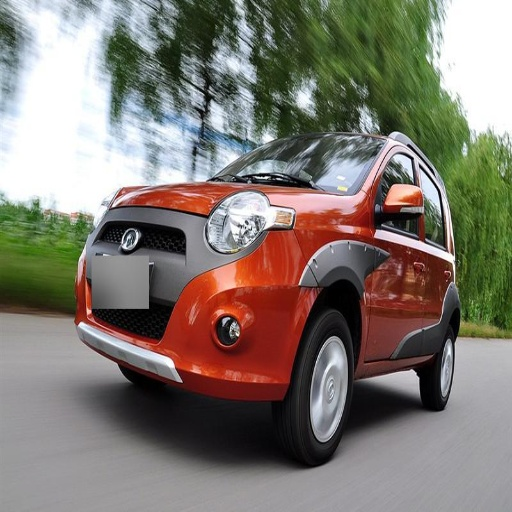front_bumper: (81, 214, 315, 394)
front_glass: (216, 138, 375, 193)
front_left_door: (366, 143, 421, 360)
